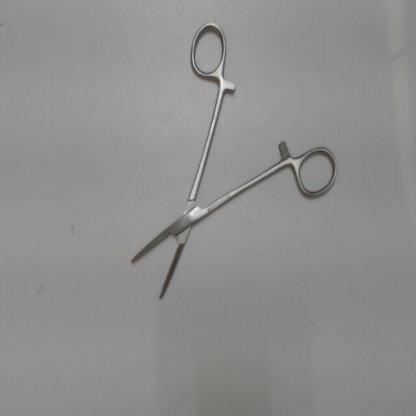Mayo Needle Holder: (121, 18, 341, 312)
